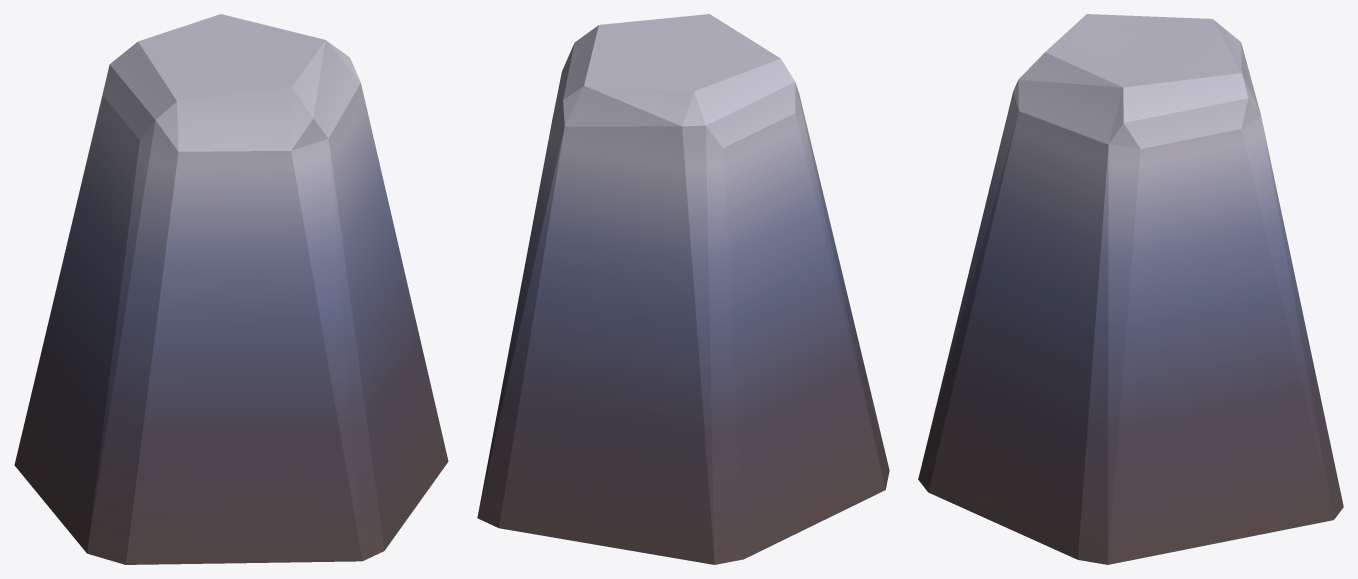
The model's file is block_mountain_1_1.fbx.
3 renders of one model, left to right at view 1: azimuth 30°, elevation 25°; view 2: azimuth 150°, elevation 25°; view 3: azimuth 270°, elevation 25°, orthographic.
Visible parts, largest first — view 1: block_mountain_1_1; view 2: block_mountain_1_1; view 3: block_mountain_1_1.
Boxes of the visible parts, x1,y1,x2,y2 form: block_mountain_1_1: (14, 14, 448, 564); block_mountain_1_1: (477, 14, 889, 564); block_mountain_1_1: (918, 14, 1343, 564).
Bounding box in the file's own units: 61.98 × 67.61 × 61.5.
